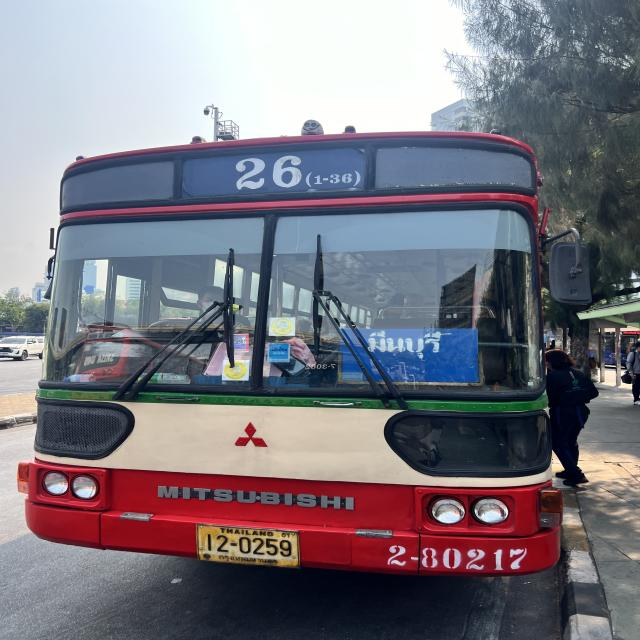BMTA-bus: (19, 127, 564, 580)
Bus-Line-Number: (176, 149, 372, 201)
Destination-Sign-Normal: (337, 328, 486, 386)
